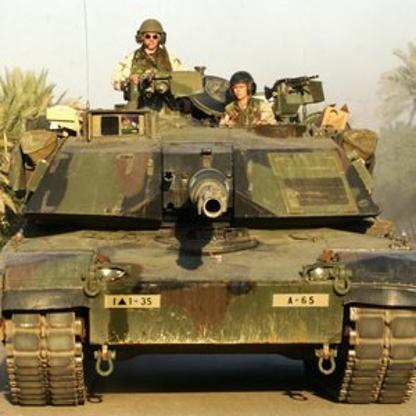Tank: (1, 70, 416, 407)
